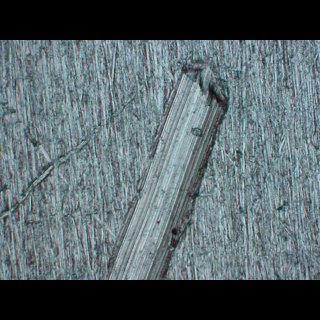d: (102, 52, 234, 280)
